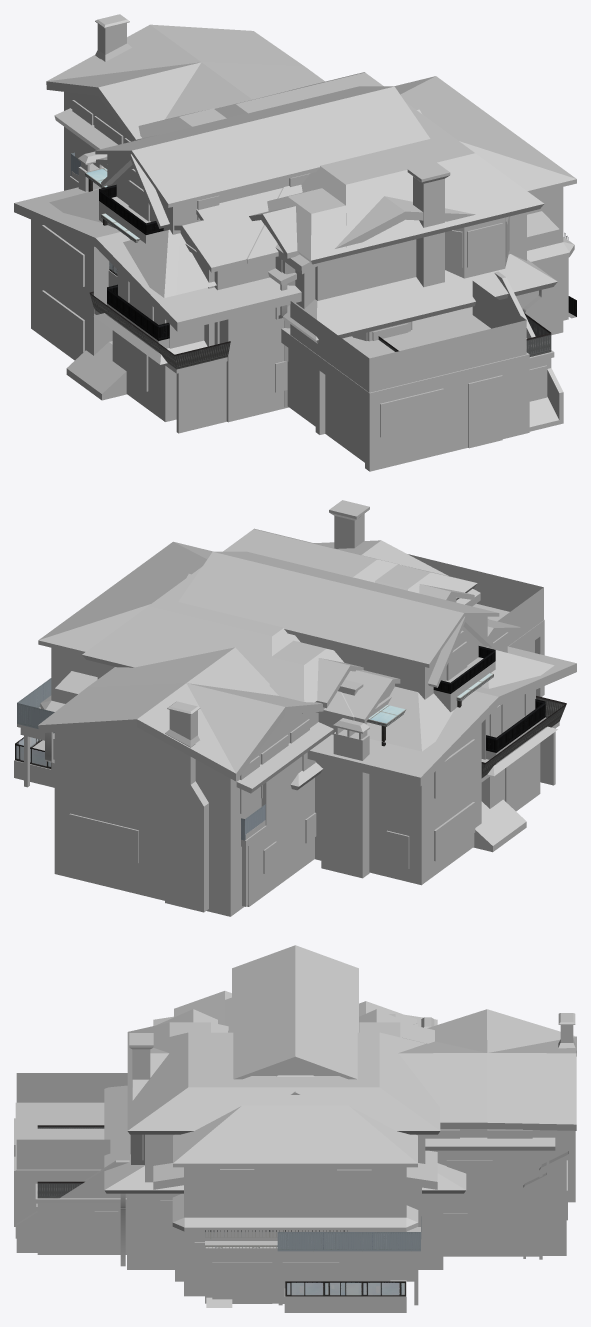
The model's file is houses_separate.FBX.
3 renders of one model, top to bottom at view 1: azimuth 30°, elevation 25°; view 2: azimuth 150°, elevation 25°; view 3: azimuth 270°, elevation 25°, orthographic. The views are drawn at different scales.
Parts seen in each view (by area): view 1: house-3, house-2, house-5, house-7, house-1, house-4; view 2: house-3, house-5, house-7, house-2, house-1, house-4; view 3: house-3, house-1, house-2, house-5, house-4, house-6, house-7.
Boxes of the visible parts, box(x1,y1,x2,y2) form: house-3: box(46, 14, 563, 471); house-2: box(133, 72, 557, 407); house-5: box(49, 86, 576, 421); house-7: box(14, 151, 559, 433); house-1: box(66, 76, 576, 400); house-4: box(54, 108, 554, 401); house-3: box(38, 540, 544, 916); house-5: box(178, 551, 557, 811); house-7: box(17, 646, 576, 885); house-2: box(82, 500, 477, 790); house-1: box(14, 541, 526, 852); house-4: box(53, 722, 333, 906); house-3: box(14, 1009, 576, 1259); house-1: box(172, 991, 418, 1312); house-2: box(104, 1009, 466, 1269); house-5: box(206, 945, 358, 1307); house-4: box(35, 1125, 555, 1258); house-6: box(205, 1014, 395, 1303); house-7: box(153, 1015, 437, 1305).
Bounding box in the file's own units: 917 × 1132 × 435.
